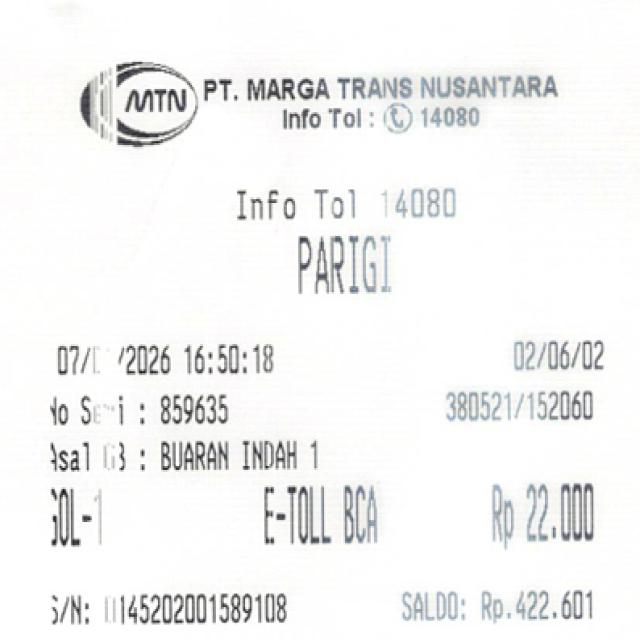date: (48, 335, 292, 385)
store: (201, 66, 567, 106)
total: (464, 469, 606, 548)
